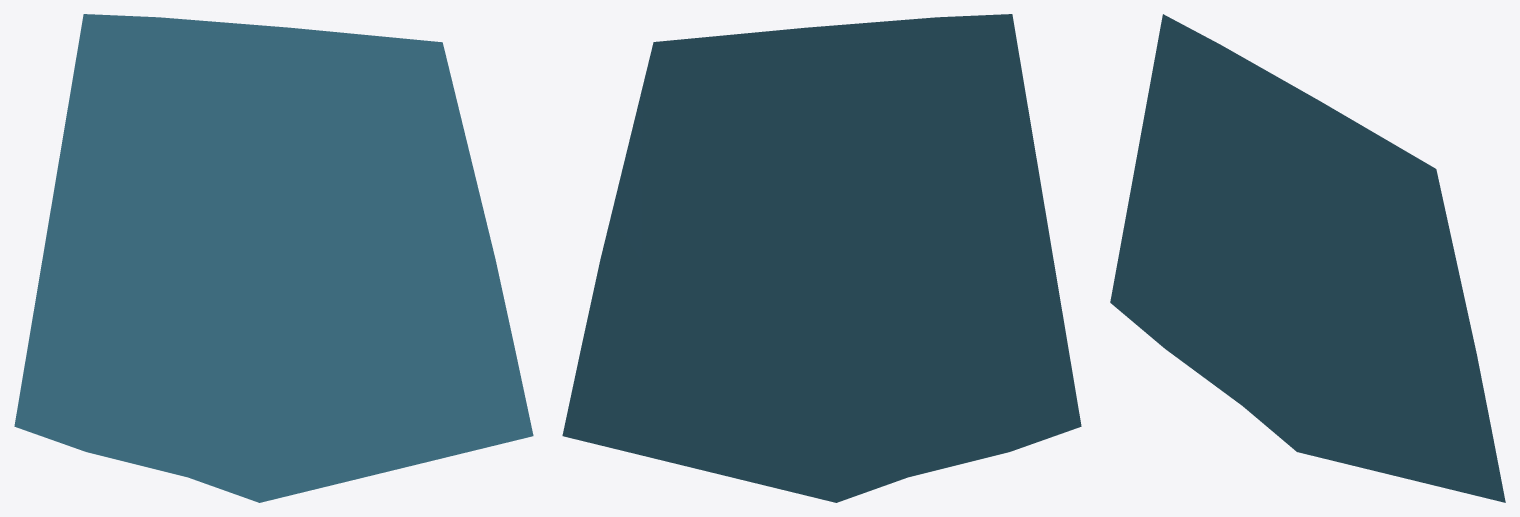
The model's file is NexusA_Cloth_30.fbx.
The picture shows the model from 3 angles, left to right: view 1: azimuth 30°, elevation 25°; view 2: azimuth 150°, elevation 25°; view 3: azimuth 330°, elevation 25°; orthographic projection. The views are drawn at different scales.
Parts seen in each view (by area): view 1: pasted__polySurface114; view 2: pasted__polySurface114; view 3: pasted__polySurface114.
Part boxes in pixels (<box>): pasted__polySurface114: <box>14,14,533,502</box>; pasted__polySurface114: <box>562,14,1081,502</box>; pasted__polySurface114: <box>1110,14,1505,502</box>.
Bounding box in the file's own units: 64.32 × 62.97 × 0.0294.
